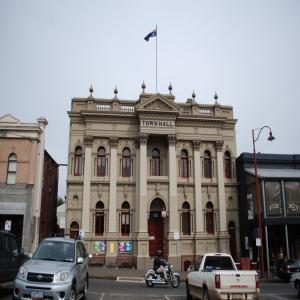Vehicle-registration-plate: (32, 290, 46, 300), (233, 295, 244, 300)
